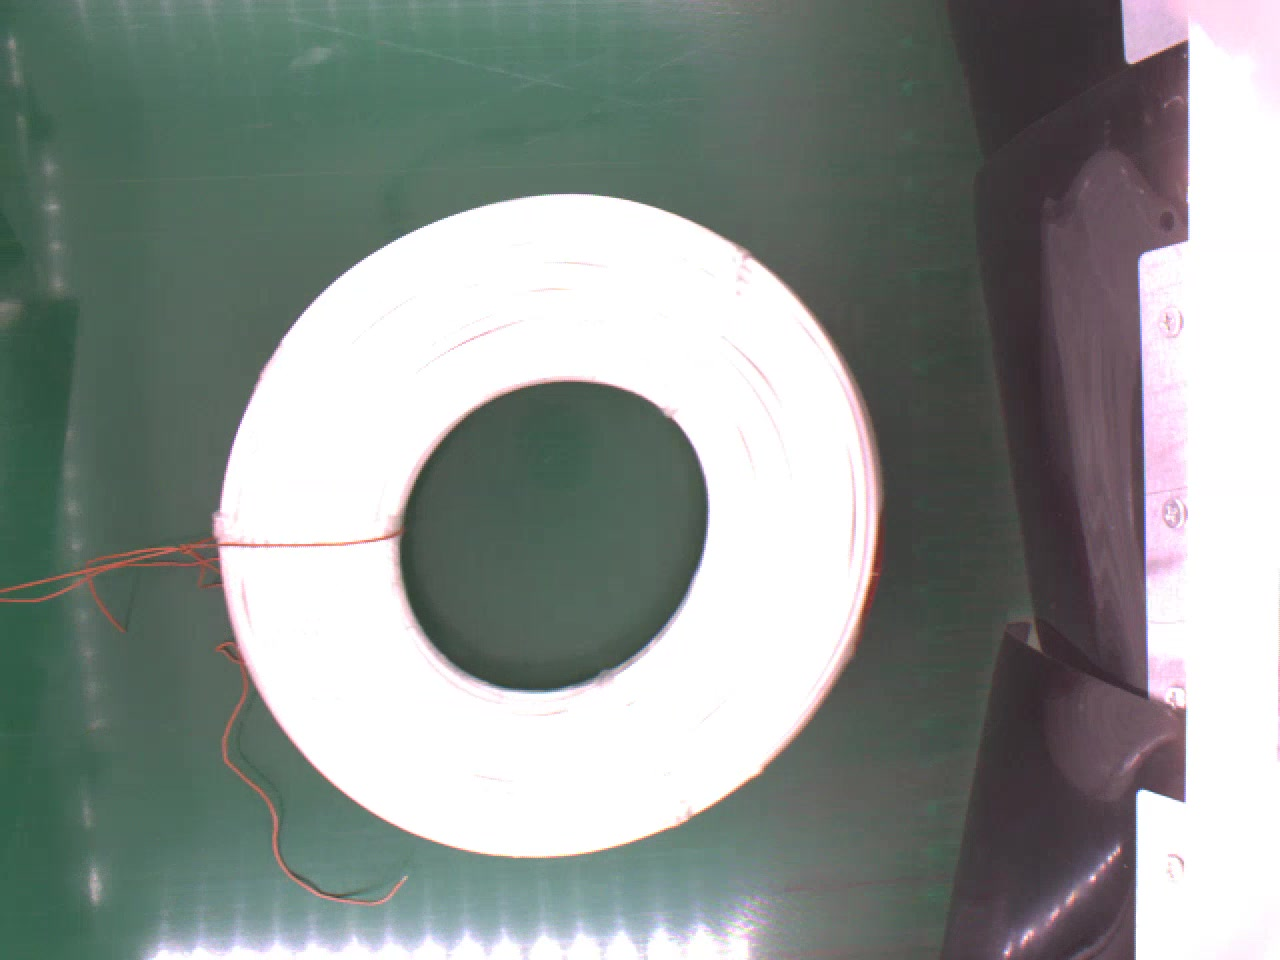white: (214, 185, 890, 868)
